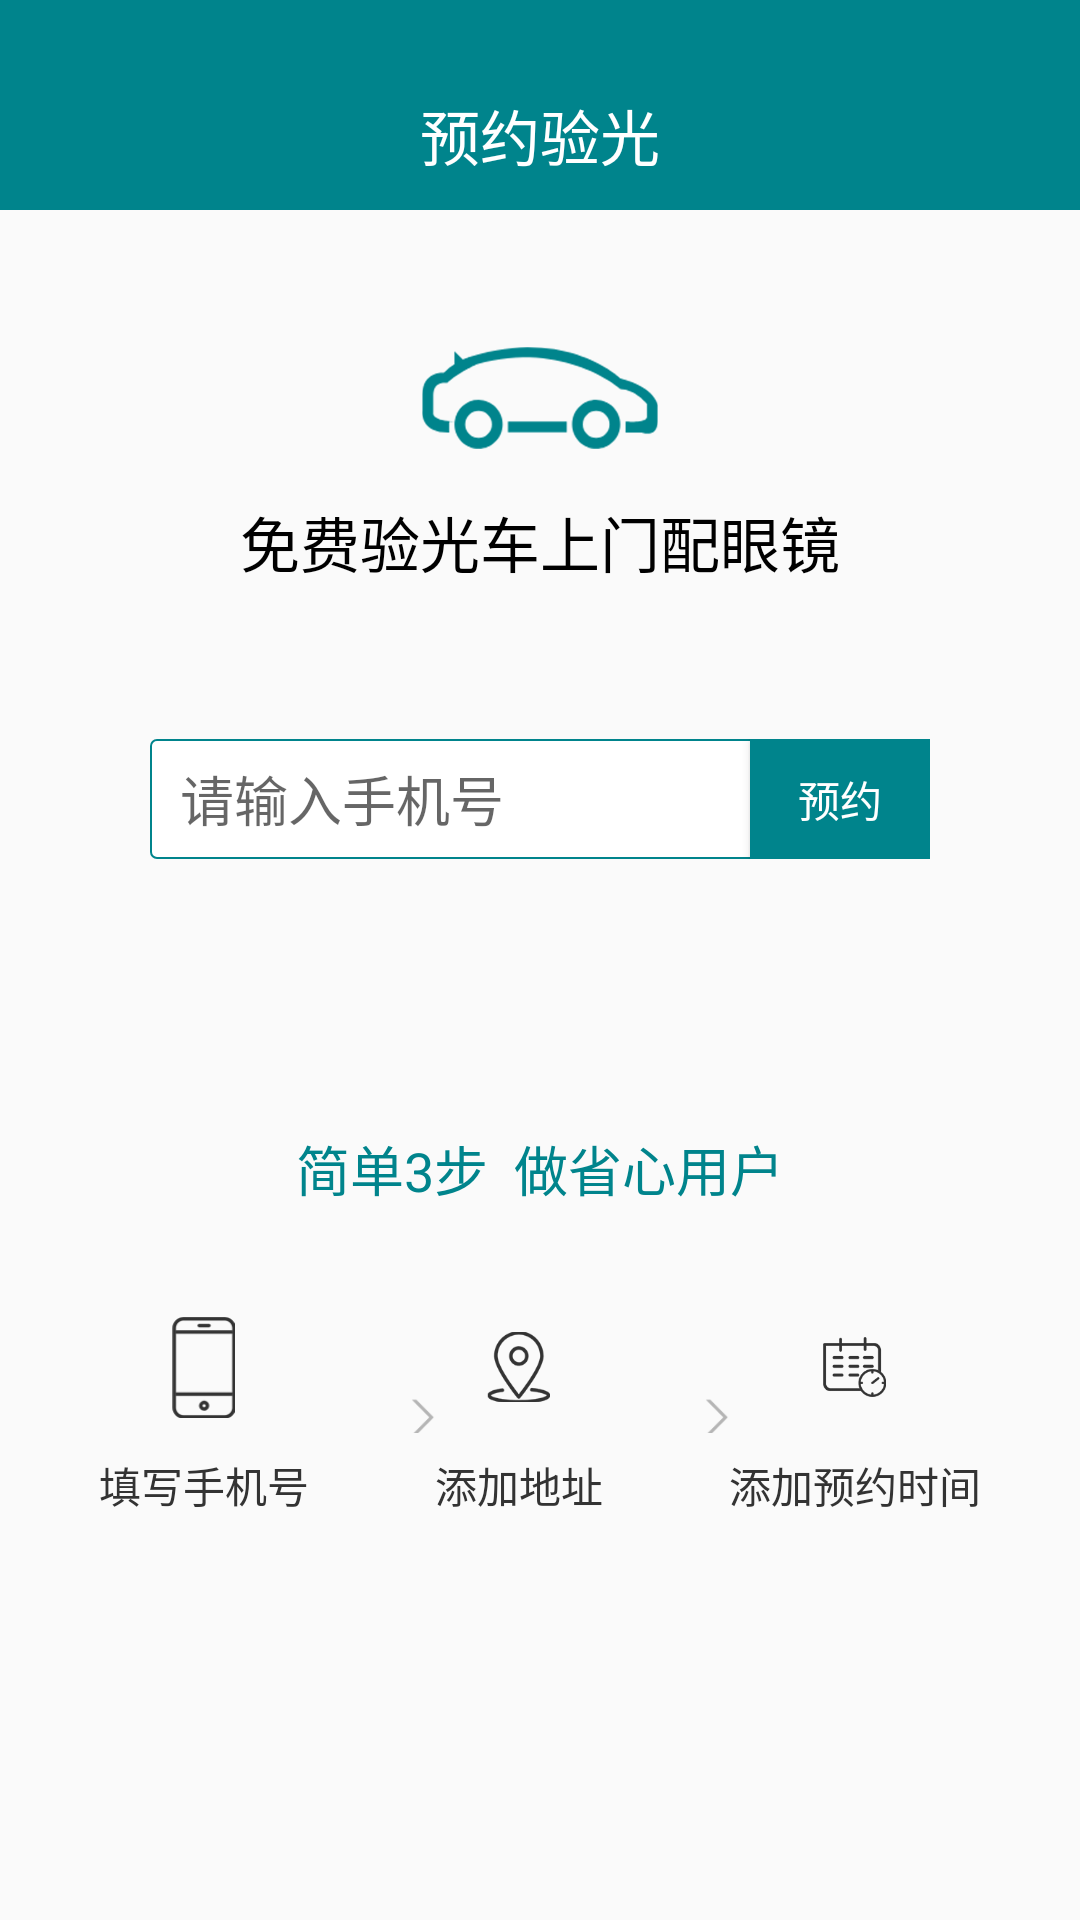

Named icons in this screenshot (1080px×1920px) and their bounding boxes, (x1, y1, x2, y2):
time: (823, 1337, 886, 1397)
